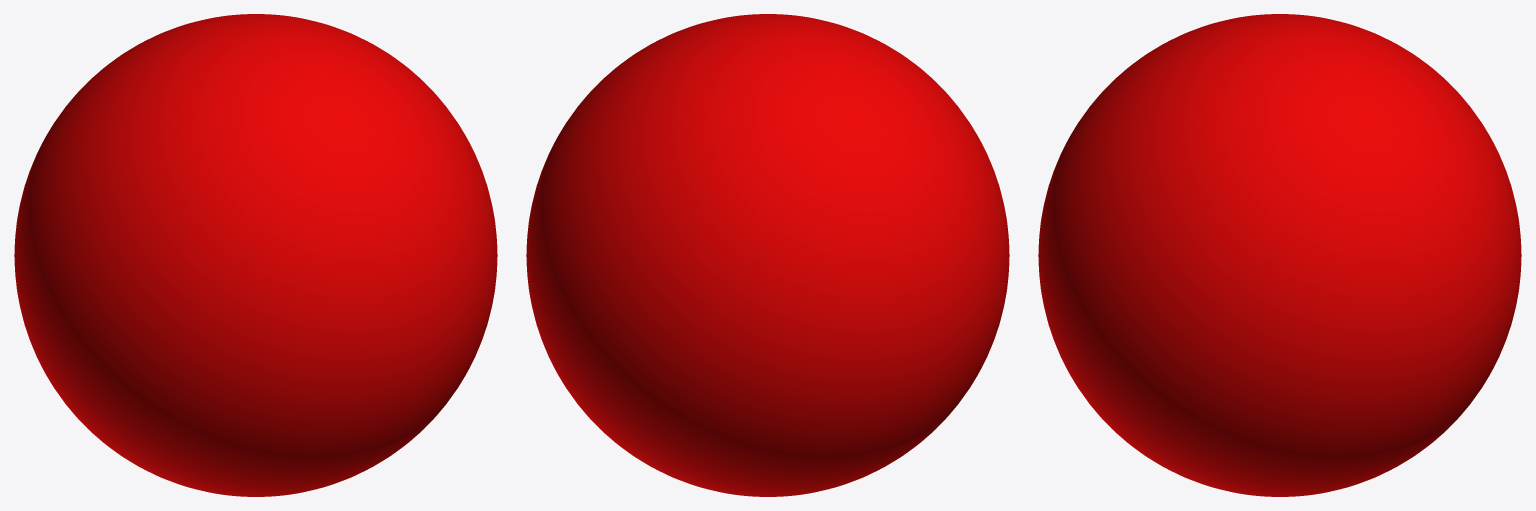
Rendered from ai2_lounge_room.fbx.
3 renders of one model, left to right at view 1: azimuth 30°, elevation 25°; view 2: azimuth 150°, elevation 25°; view 3: azimuth 270°, elevation 25°, orthographic.
Parts seen in each view (by area): view 1: ai2_skybox; view 2: ai2_skybox; view 3: ai2_skybox.
Boxes of the visible parts, <box> form: ai2_skybox: <box>14,14,497,496</box>; ai2_skybox: <box>526,14,1009,496</box>; ai2_skybox: <box>1038,14,1521,496</box>.
Size of the model in its own units: 10456 by 10456 by 10456.
